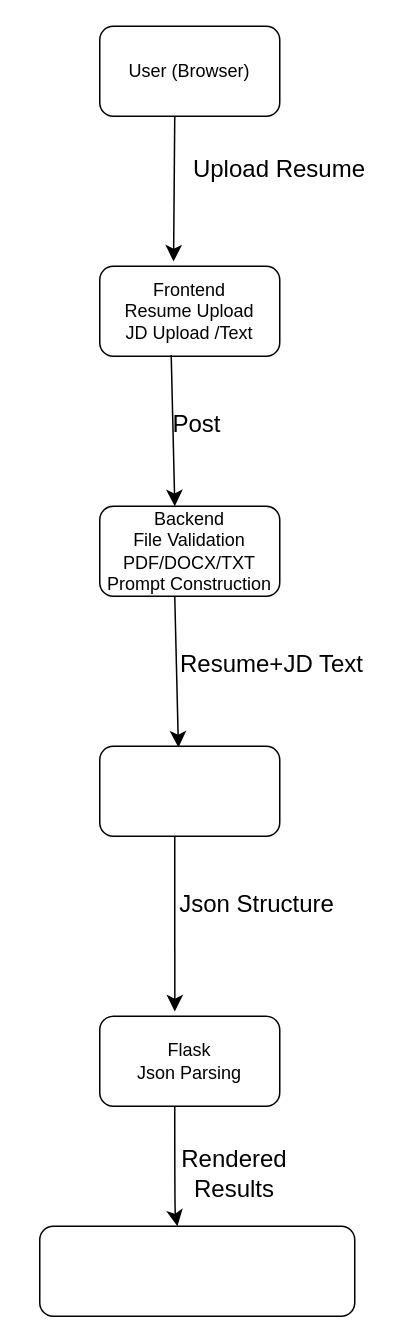
This 411x1343 diagram has some shape labels left out. The centre of each missing label's shape, as x and y in pixels:
"LLM LLaMA 3.3 70B Model Json Structure OP" goes at pixel 189 790.
"Results Match Score Stengths?ga[s ATS recommendation" goes at pixel 196 1270.
